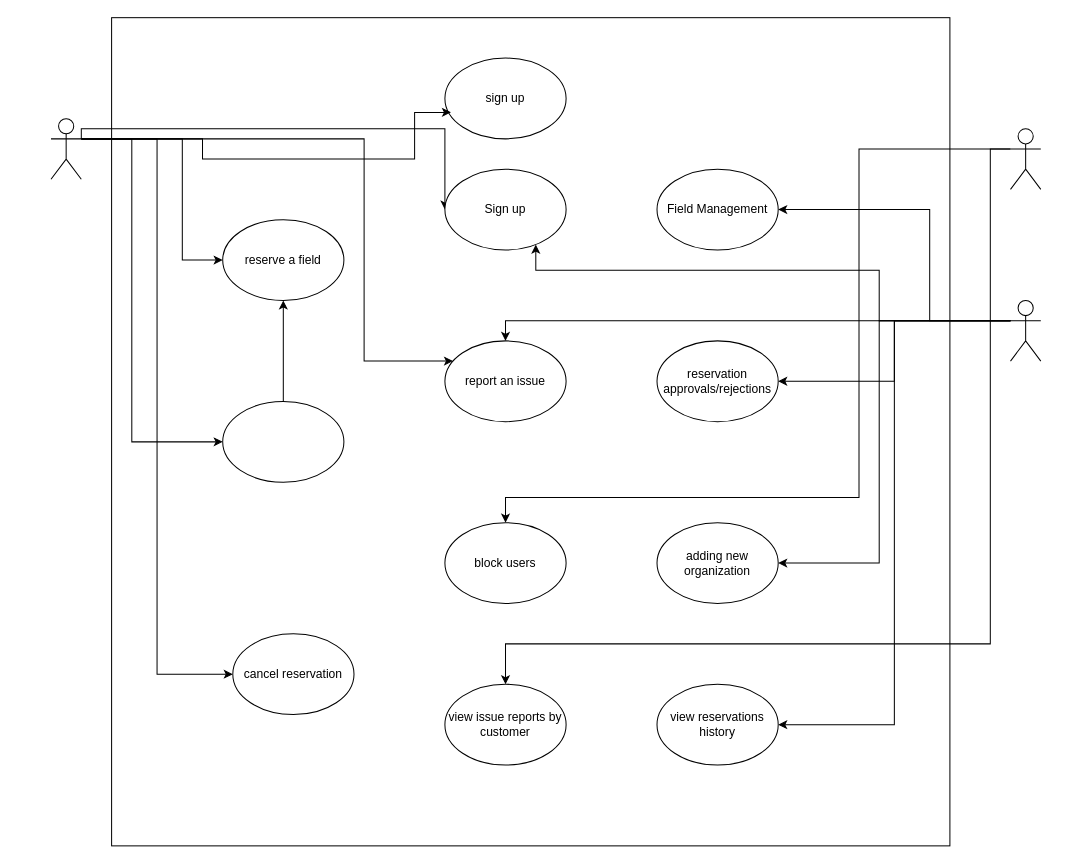
This 1072x864 diagram has some shape labels left out. The shapes that lost their labels are listed below. From the top down, each one's centre as x and y in pixels, then its label:
At point (65, 148): "Player (Customer)".
At point (1025, 158): "Sys Admin".
At point (1025, 330): "Owner".
At point (283, 441): "search for a field".
